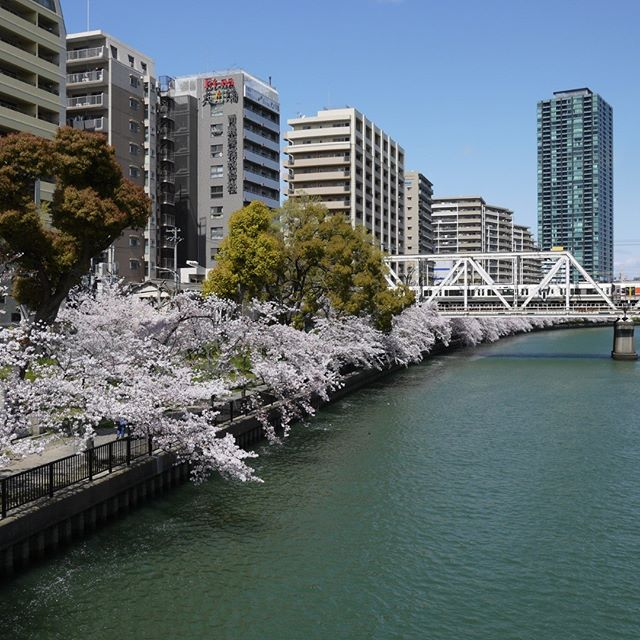bridge: (394, 244, 634, 364)
building: (66, 31, 183, 278), (288, 114, 432, 271), (176, 72, 277, 272), (528, 88, 613, 277), (431, 205, 535, 283)
flowers: (1, 296, 339, 465)
river: (24, 347, 640, 634)
sky: (187, 1, 640, 94)
train: (405, 274, 640, 311)
tree: (222, 201, 405, 338), (1, 138, 138, 314)
